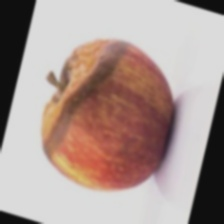apple: (50, 16, 205, 209)
